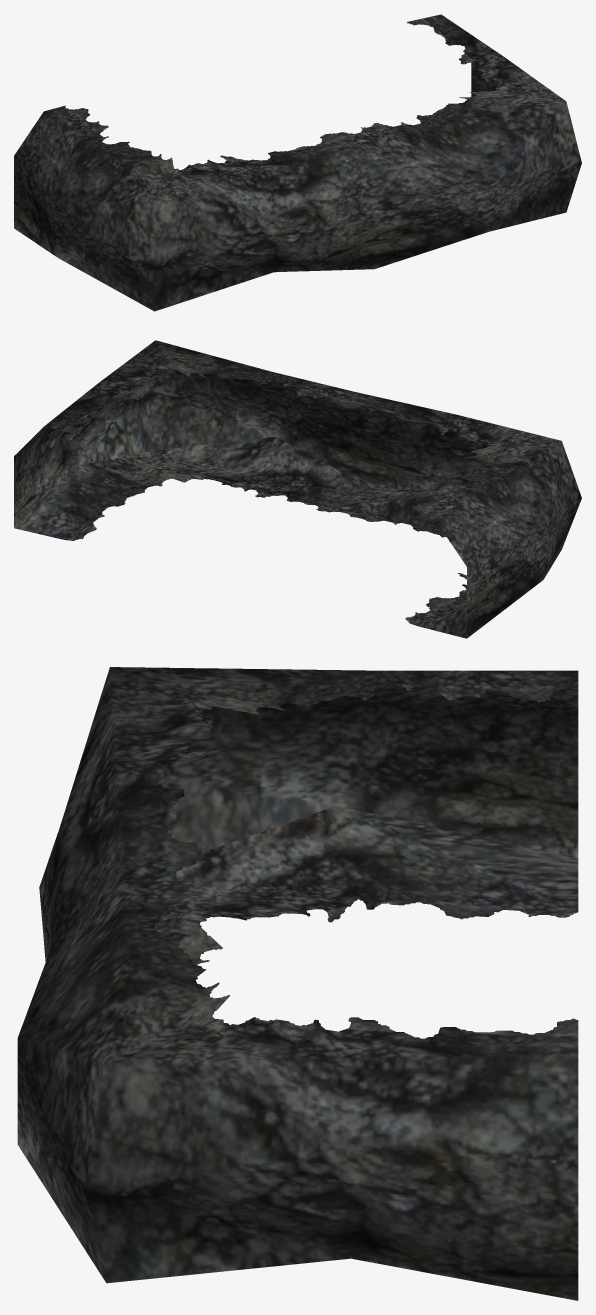
Rendered from rock_Uconvex.dae.
3 renders of one model, top to bottom at view 1: azimuth 30°, elevation 25°; view 2: azimuth 150°, elevation 25°; view 3: azimuth 270°, elevation 25°, orthographic. The views are drawn at different scales.
Parts seen in each view (by area): view 1: polySurface8; view 2: polySurface8; view 3: polySurface8.
Boxes of the visible parts, x1,y1,x2,y2 form: polySurface8: [14, 14, 581, 311]; polySurface8: [14, 340, 581, 638]; polySurface8: [17, 667, 578, 1300].
Size of the model in its own units: 2.42 by 0.5467 by 1.23.
